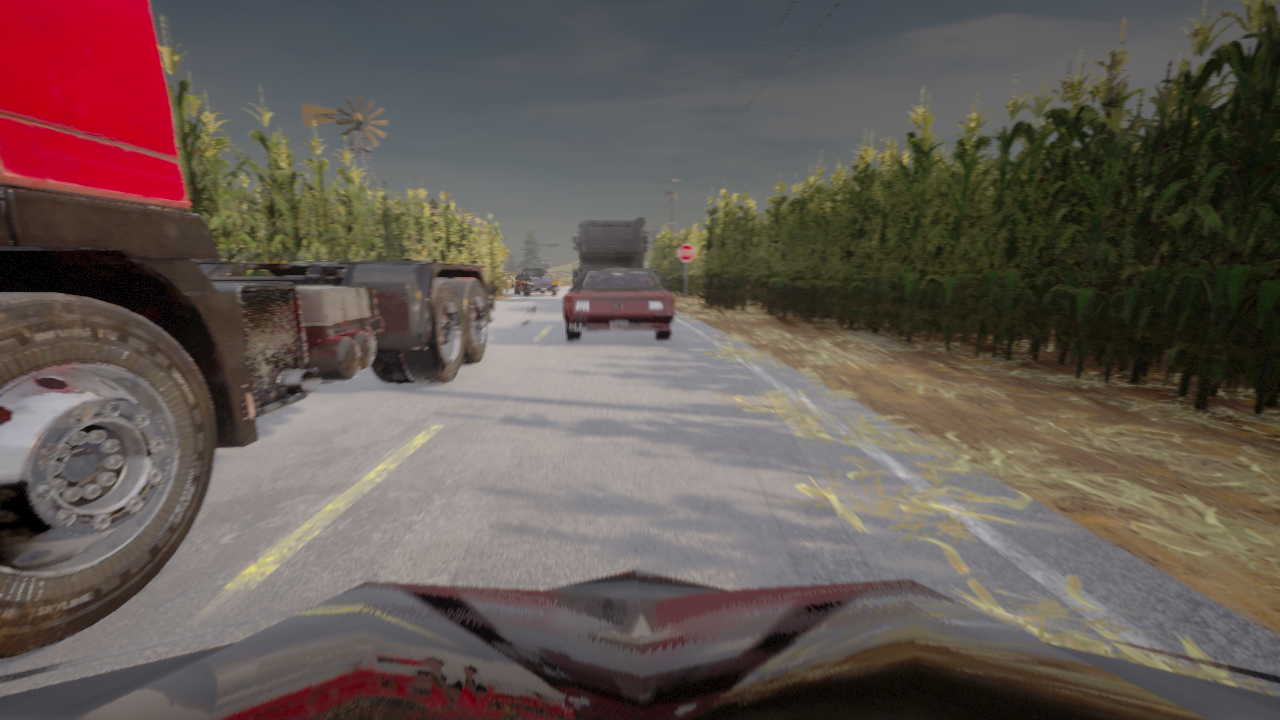cyclist: (0, 569, 1279, 719), (563, 269, 674, 340), (572, 218, 658, 285), (514, 269, 558, 295)
